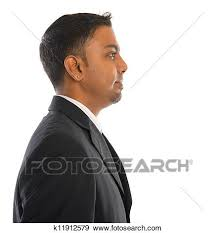Indian_Male: (62, 18, 135, 101)
